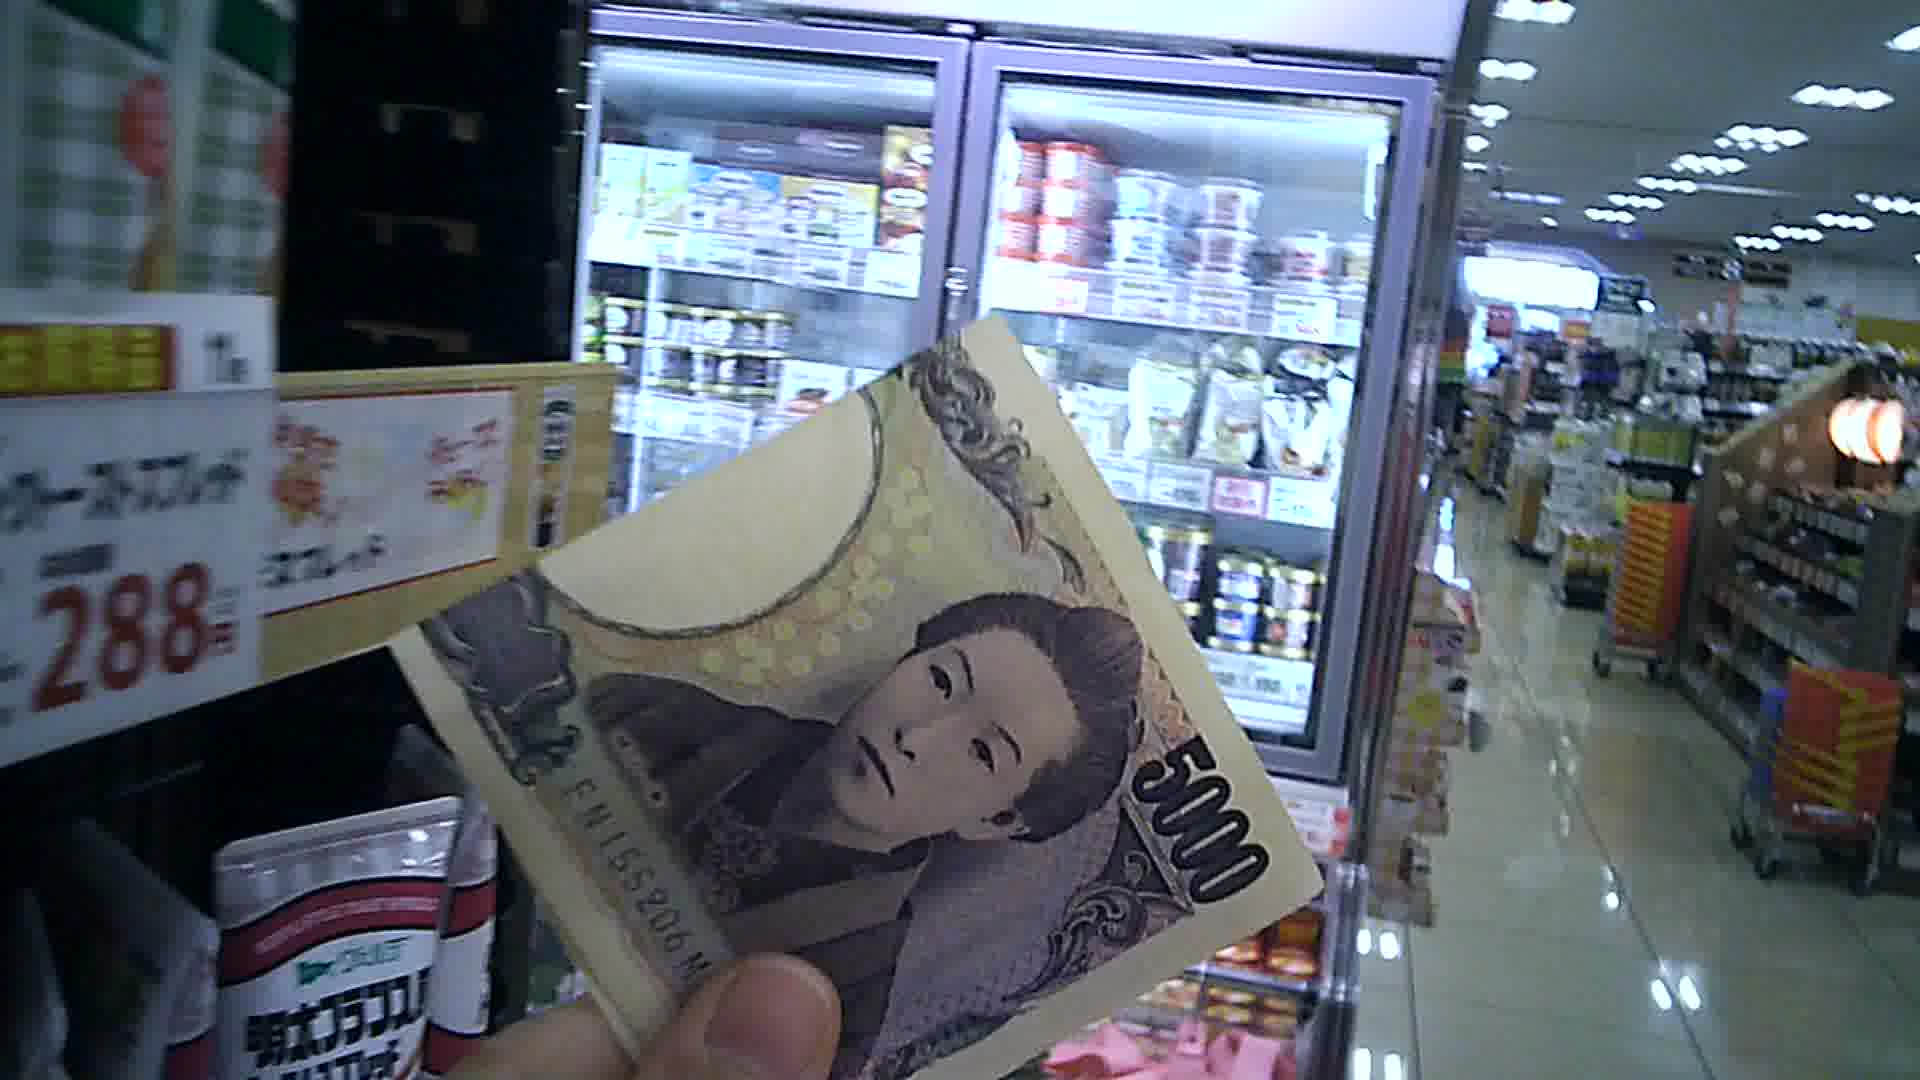5,000 Yen: (371, 319, 1315, 1073)
